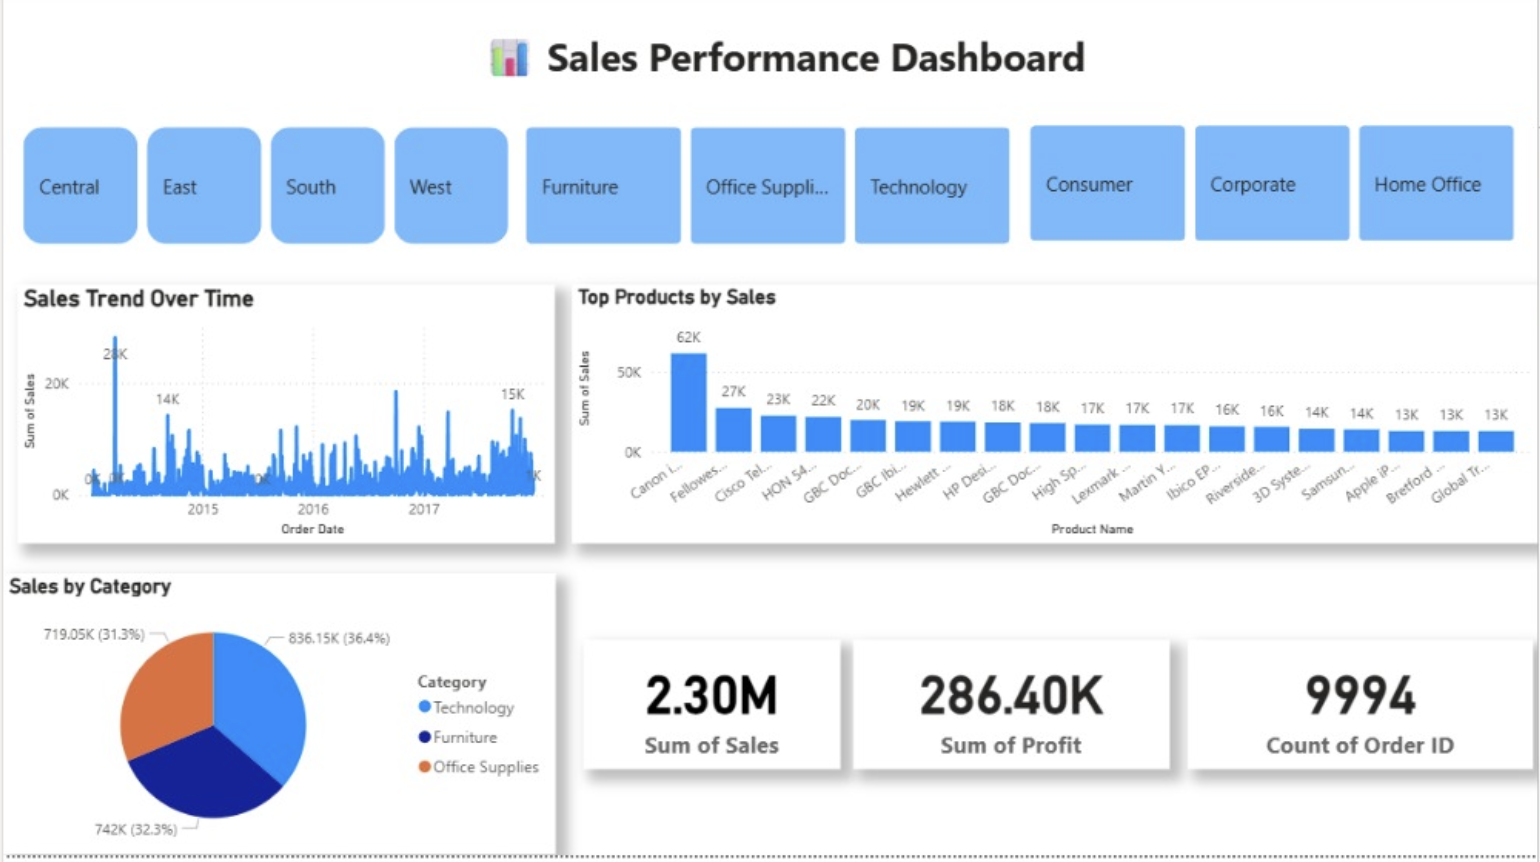

Layout of this report page (visuals, bound fields, positions):
{"tool":"powerbi","page":{"name":"Page 1","canvas":[1280,720],"ordinal":0},"visuals":[{"type":"lineChart","title":"Sales Trend Over Time","fields":{"Y":["Sum(superstore.Sales)"],"Category":["superstore.Order Date"]},"box":[12.3,244.6,448.2,215.9],"z":0},{"type":"clusteredColumnChart","title":"Top Products by Sales","fields":{"Category":["superstore.Product Name"],"Y":["Sum(superstore.Sales)"]},"box":[474.4,243.9,805.9,215.6],"z":1000},{"type":"pieChart","title":"Sales by Category","fields":{"Category":["superstore.Category"],"Y":["Sum(superstore.Sales)"]},"box":[0,485.2,460.9,234.5],"z":2000},{"type":"card","fields":{"Values":["Sum(superstore.Sales)"]},"box":[483.7,541.1,214.5,107.9],"z":3000},{"type":"card","fields":{"Values":["Sum(superstore.Profit)"]},"box":[709.1,541.1,263.7,107.9],"z":4000},{"type":"card","fields":{"Values":["CountNonNull(superstore.Order ID)"]},"box":[987.9,541.1,288.3,107.9],"z":5000},{"type":"advancedSlicerVisual","fields":{"Values":["superstore.Region"]},"box":[12.3,107.9,415.4,107.9],"z":6000},{"type":"advancedSlicerVisual","fields":{"Values":["superstore.Category"]},"box":[431.8,107.9,415.4,107],"z":7000},{"type":"advancedSlicerVisual","fields":{"Values":["superstore.Segment"]},"box":[851.2,106.6,415.4,106.6],"z":8000},{"type":"textbox","box":[272.2,27,758.7,52.6],"z":9000}]}

Visuals, with their boxes in screenshot pixels (x1, y1, x2, y2), scaled from the page's 1280x720 canvas onto the 1540x862 screenshot:
"Sales Trend Over Time" lineChart: (x1=15, y1=293, x2=554, y2=551)
"Top Products by Sales" clusteredColumnChart: (x1=571, y1=292, x2=1539, y2=550)
"Sales by Category" pieChart: (x1=0, y1=581, x2=555, y2=861)
card - Sum(superstore.Sales): (x1=582, y1=648, x2=840, y2=777)
card - Sum(superstore.Profit): (x1=853, y1=648, x2=1170, y2=777)
card - CountNonNull(superstore.Order ID): (x1=1189, y1=648, x2=1535, y2=777)
advancedSlicerVisual - superstore.Region: (x1=15, y1=129, x2=515, y2=258)
advancedSlicerVisual - superstore.Category: (x1=520, y1=129, x2=1019, y2=257)
advancedSlicerVisual - superstore.Segment: (x1=1024, y1=128, x2=1524, y2=255)
textbox: (x1=327, y1=32, x2=1240, y2=95)
